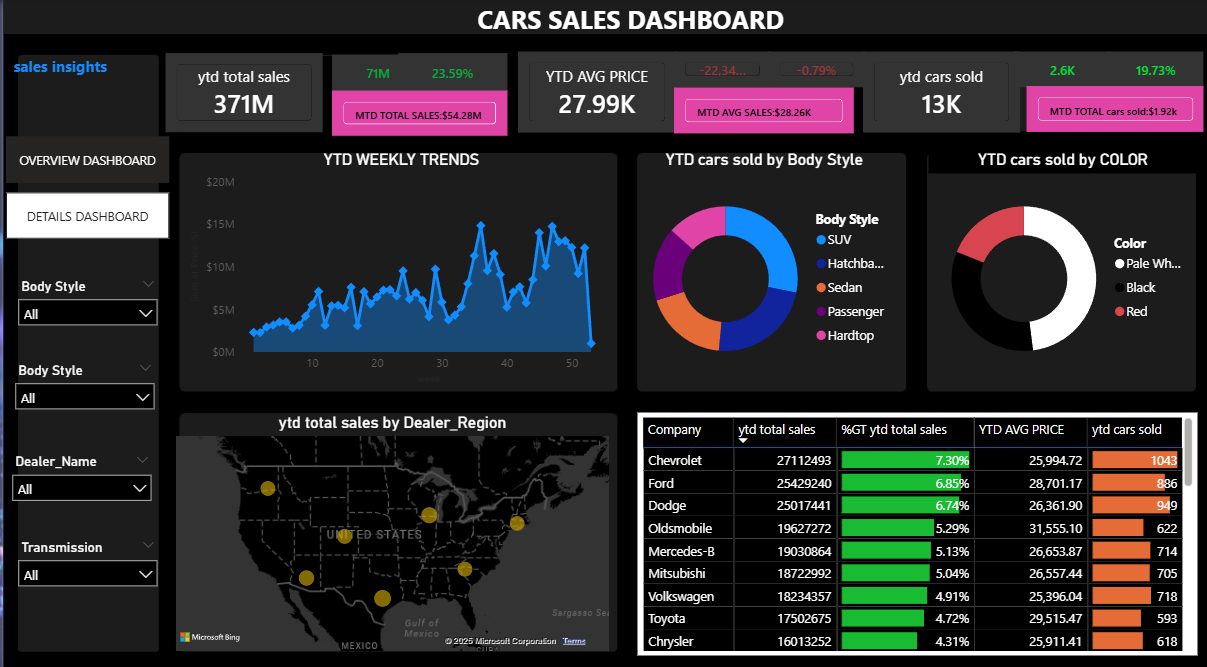

This screenshot's page, from the dashboard's own definition file:
{"tool":"powerbi","page":{"name":"OVERVIEW DASHBOARD","canvas":[1280,720],"ordinal":0},"visuals":[{"type":"cardVisual","fields":{"Data":["calender table.ytd total sales"]},"box":[182.9,57.3,178.1,95.4],"z":0},{"type":"cardVisual","fields":{"Data":["car_data.sales difference"]},"box":[343.6,55.7,108.2,49.3],"z":1000},{"type":"cardVisual","fields":{"Data":["car_data.yoy growth"]},"box":[413.9,54.8,126.6,51],"z":2000},{"type":"cardVisual","fields":{"Data":["car_data.mtd kpi"]},"box":[343.9,94.5,196.5,58.6],"z":3000},{"type":"cardVisual","fields":{"Data":["calender table.ytd total sales"]},"box":[166.3,54.8,177.6,94.5],"z":4000},{"type":"cardVisual","fields":{"Data":["car_data.YTD AVG PRICE"]},"box":[540.6,53,178.7,96.9],"z":5000},{"type":"cardVisual","fields":{"Data":["car_data.AVG PRICE DIFFERENCE"]},"box":[705.6,53,113.6,48.5],"z":6000},{"type":"cardVisual","fields":{"Data":["car_data.YOY AVG PRICE GROWTH"]},"box":[807.1,53,112.1,48.5],"z":7000},{"type":"cardVisual","fields":{"Data":["car_data.AVG MTD"]},"box":[705.6,90.9,201.4,59.1],"z":8000},{"type":"cardVisual","fields":{"Data":["car_data.ytd cars sold"]},"box":[907.1,52.9,177.6,96.4],"z":9000},{"type":"cardVisual","fields":{"Data":["car_data.car sold difference"]},"box":[1067.5,53,112.1,48.5],"z":10000},{"type":"cardVisual","fields":{"Data":["car_data.yoy groeth cars sold"]},"box":[1165.9,53,113.6,48.5],"z":11000},{"type":"cardVisual","fields":{"Data":["car_data.mtd total cars sold"]},"box":[1079.6,89.3,199.9,59.1],"z":12000},{"type":"areaChart","title":"YTD WEEKLY TRENDS","fields":{"Category":["calender table.week"],"Y":["Sum(car_data.Price ($))"]},"box":[192.5,162.2,459.7,252.9],"z":13000},{"type":"donutChart","title":"YTD cars sold by Body Style","fields":{"Category":["car_data.Body Style"],"Y":["car_data.ytd cars sold"]},"box":[664.7,162,284.7,252.9],"z":14000},{"type":"donutChart","title":"YTD cars sold by COLOR","fields":{"Y":["car_data.ytd cars sold"],"Category":["car_data.Color"]},"box":[981.2,162,284.7,252.9],"z":15000},{"type":"tableEx","fields":{"Values":["car_data.Company","calender table.ytd total sales1","calender table.ytd total sales","car_data.YTD AVG PRICE","car_data.ytd cars sold"]},"box":[672.3,440.6,593.6,257.4],"z":16000},{"type":"textbox","box":[469.8,0,392.7,77],"z":17000},{"type":"slicer","fields":{"Values":["car_data.Body Style"]},"box":[3.2,381.7,167,66.8],"z":18000},{"type":"map","fields":{"Category":["car_data.Dealer_Region"],"Size":["calender table.ytd total sales"]},"box":[178.1,440.6,469.2,257.7],"z":19000},{"type":"slicer","fields":{"Values":["car_data.Dealer_Name"]},"box":[0,478.8,167,66.8],"z":20000},{"type":"slicer","fields":{"Values":["car_data.Transmission"]},"box":[6.4,569.4,167,66.8],"z":21000},{"type":"slicer","fields":{"Values":["car_data.Body Style"]},"box":[6.4,292.7,167,66.8],"z":22000},{"type":"pageNavigator","box":[3.2,147.9,173.4,109.8],"z":23000},{"type":"textbox","box":[6.4,57.3,160.7,47.7],"z":24000}]}

Visuals, with their boxes in screenshot pixels (x1, y1, x2, y2), scaled from the page's 1280x720 canvas onto the 1207x667 screenshot:
cardVisual - calender table.ytd total sales: (172,53,340,141)
cardVisual - car_data.sales difference: (324,52,426,97)
cardVisual - car_data.yoy growth: (390,51,510,98)
cardVisual - car_data.mtd kpi: (324,88,510,142)
cardVisual - calender table.ytd total sales: (157,51,324,138)
cardVisual - car_data.YTD AVG PRICE: (510,49,678,139)
cardVisual - car_data.AVG PRICE DIFFERENCE: (665,49,772,94)
cardVisual - car_data.YOY AVG PRICE GROWTH: (761,49,867,94)
cardVisual - car_data.AVG MTD: (665,84,855,139)
cardVisual - car_data.ytd cars sold: (855,49,1023,138)
cardVisual - car_data.car sold difference: (1007,49,1112,94)
cardVisual - car_data.yoy groeth cars sold: (1099,49,1206,94)
cardVisual - car_data.mtd total cars sold: (1018,83,1206,137)
"YTD WEEKLY TRENDS" areaChart: (182,150,615,385)
"YTD cars sold by Body Style" donutChart: (627,150,895,384)
"YTD cars sold by COLOR" donutChart: (925,150,1194,384)
tableEx - car_data.Company x calender table.ytd total sales1: (634,408,1194,647)
textbox: (443,0,813,71)
slicer - car_data.Body Style: (3,354,160,415)
map - car_data.Dealer_Region x calender table.ytd total sales: (168,408,610,647)
slicer - car_data.Dealer_Name: (0,444,157,505)
slicer - car_data.Transmission: (6,527,164,589)
slicer - car_data.Body Style: (6,271,164,333)
pageNavigator: (3,137,167,239)
textbox: (6,53,158,97)
